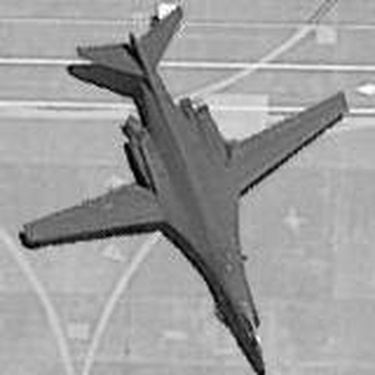airplane: (9, 3, 351, 373)
